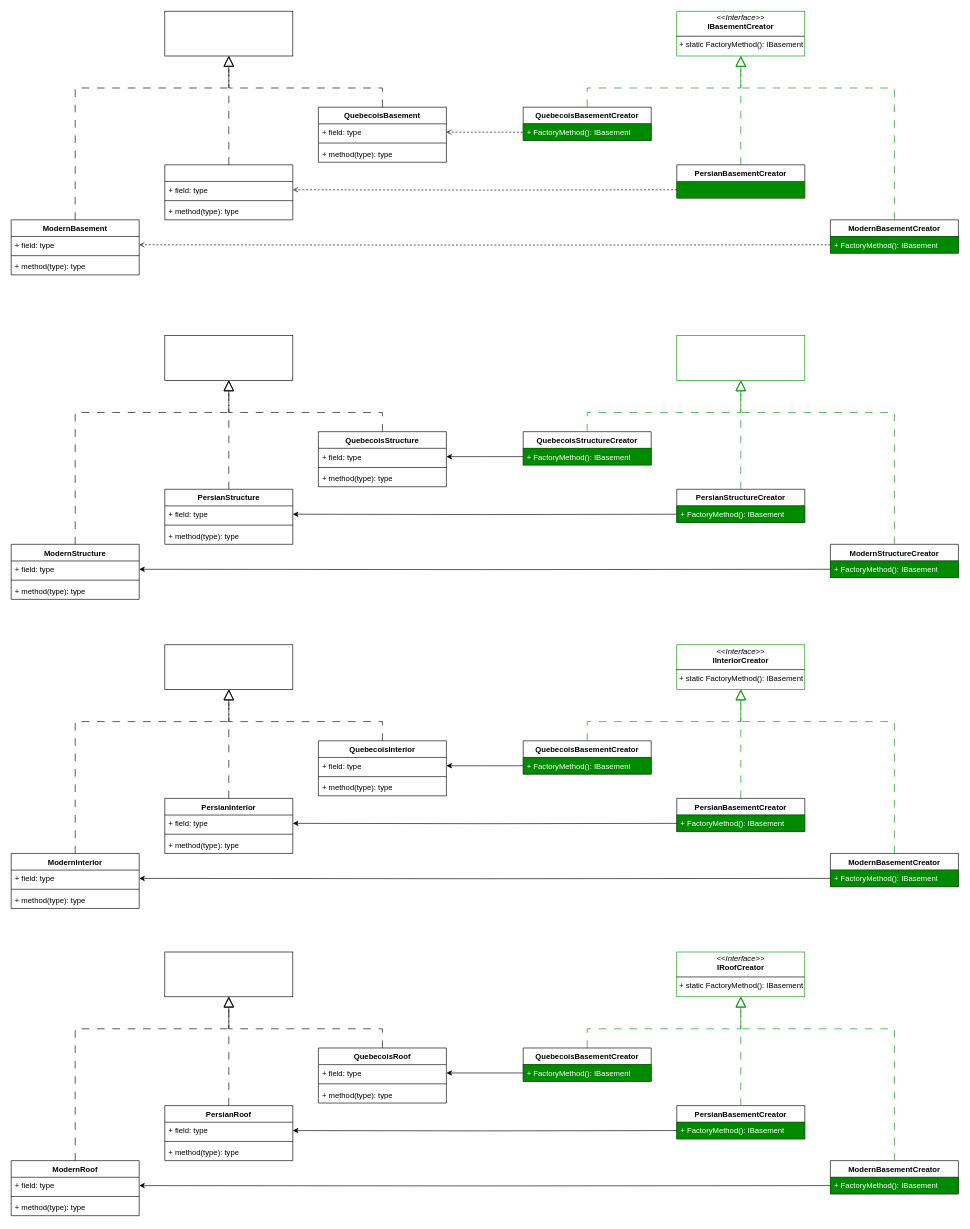
Image size: 970x1229. Some labels were removed from this diagram. Each missing label, with the box of its shape:
+ FactoryMethod():IBasement: (676, 181, 805, 198)
<<Interface>> IBasement: (164, 11, 293, 56)
<<Interface>> IInterior: (164, 644, 293, 690)
<<Interface>> IRoof + static Factory(): IBasement: (164, 951, 293, 997)
<<Interface>> IStructure: (164, 335, 293, 380)
<<Interface>> IStructureCreator + static FactoryMethod(): IBasement: (676, 335, 805, 380)
PersianBasement: (164, 164, 293, 220)
